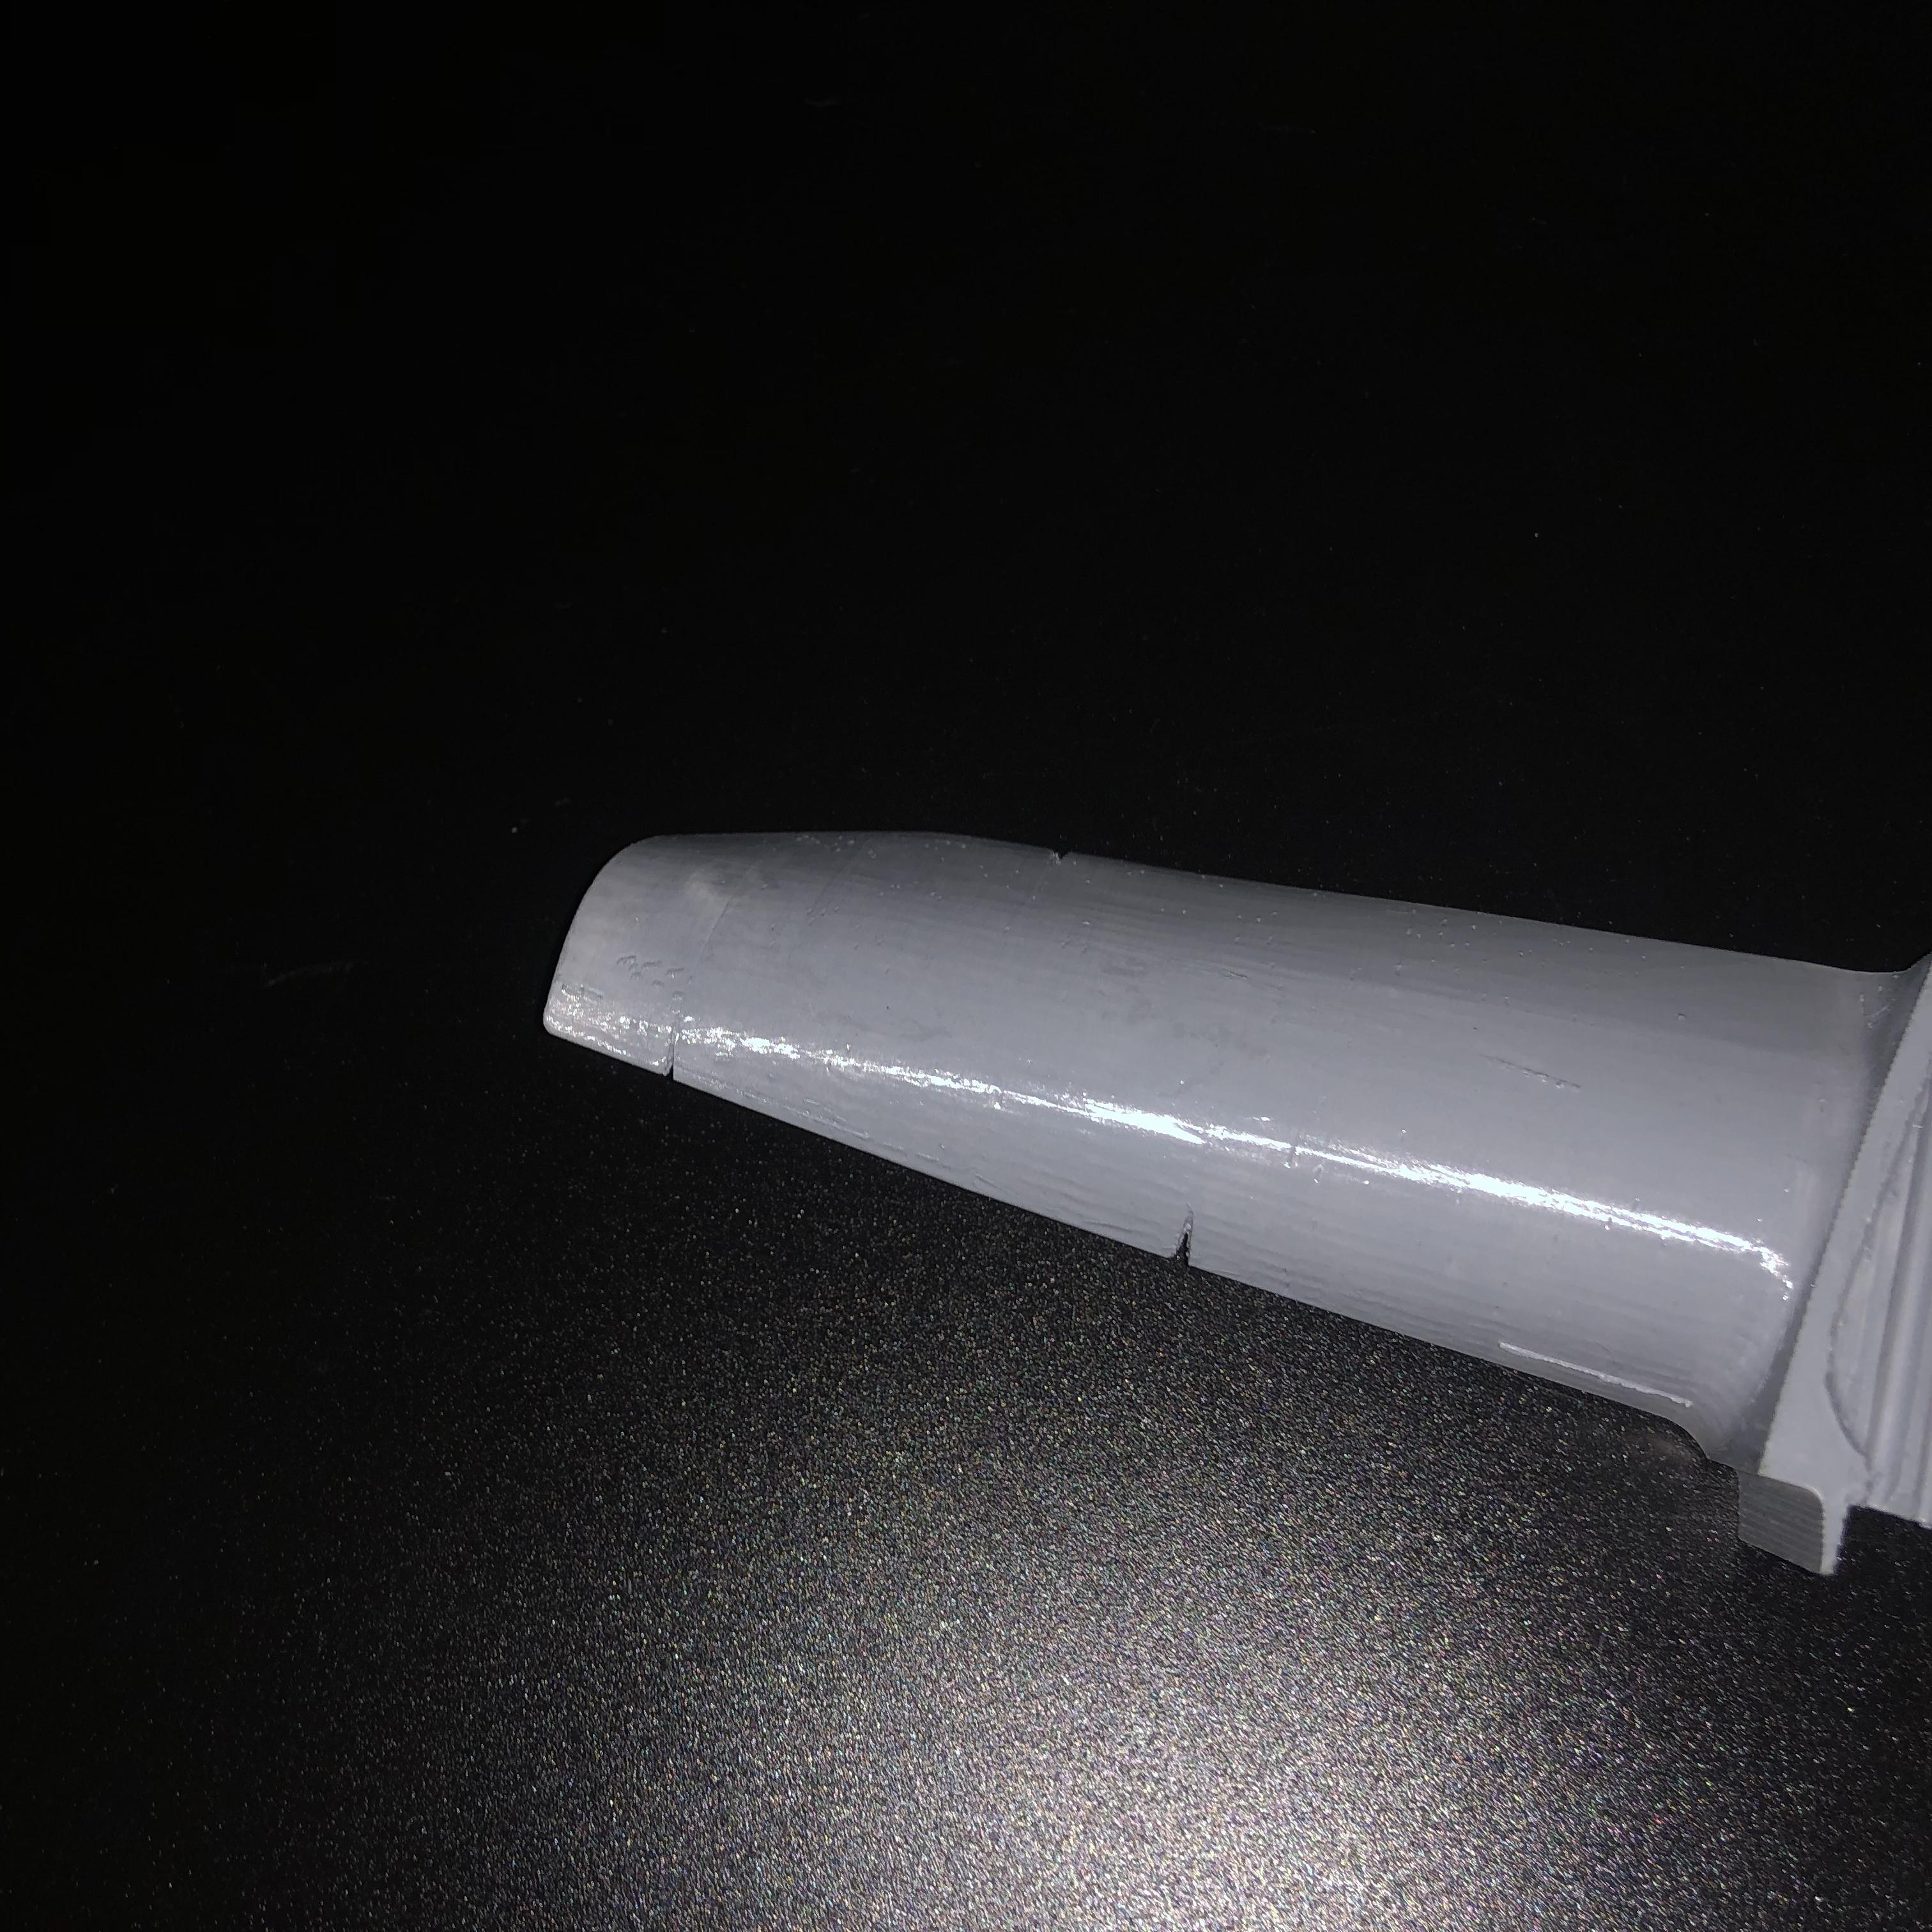groove: (1168, 1203, 1210, 1267), (649, 1054, 699, 1081), (1049, 839, 1079, 863)
